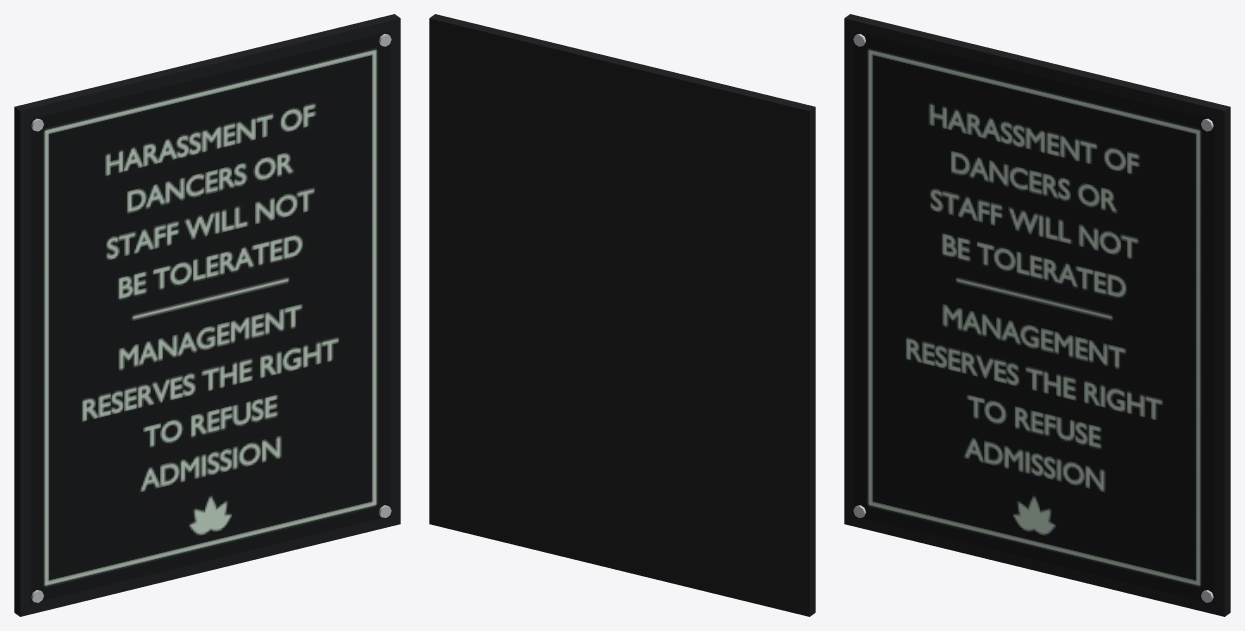
Rendered from ENT_Placa_Regras.glb.
3 renders of one model, left to right at view 1: azimuth 30°, elevation 25°; view 2: azimuth 150°, elevation 25°; view 3: azimuth 330°, elevation 25°, orthographic.
Parts seen in each view (by area): view 1: ENT_Placa_Regras; view 2: ENT_Placa_Regras; view 3: ENT_Placa_Regras.
Part boxes in pixels (x1,y1,x2,y2): ENT_Placa_Regras: [14, 14, 400, 616]; ENT_Placa_Regras: [429, 14, 815, 616]; ENT_Placa_Regras: [844, 14, 1230, 616].
Size of the model in its own units: 0.74 by 0.94 by 0.026.
Materials: 3 (1 with a texture image).
